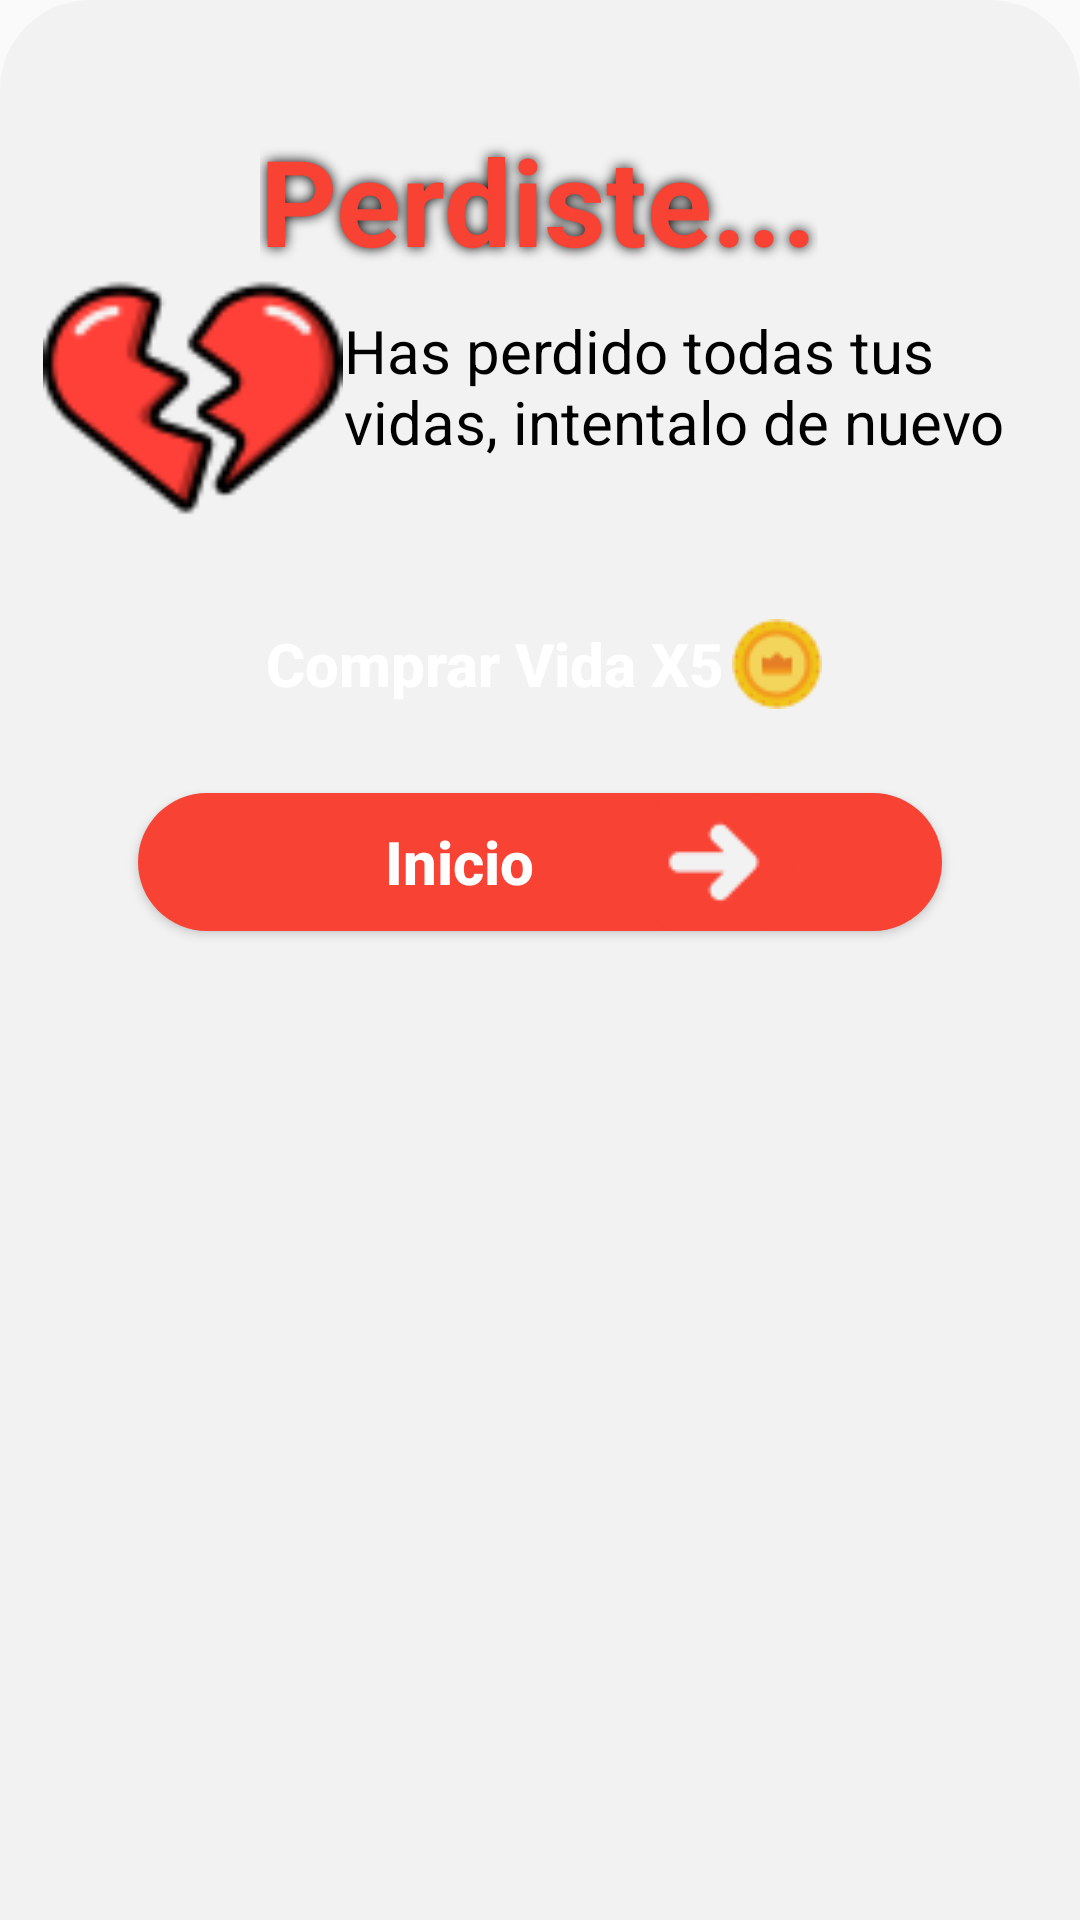

Icon click points for this 1080px x 1920px phone screenshot, format (x,y):
corazon roto: (193,398)
